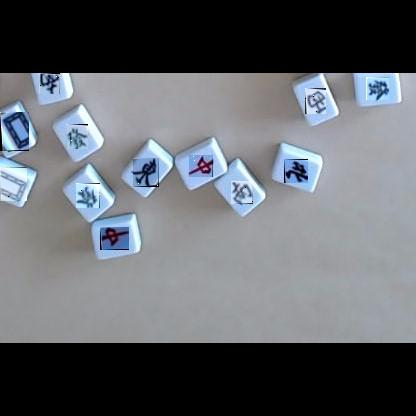1z: (133, 158, 159, 187)
2z: (231, 181, 253, 204), (39, 73, 60, 94)
3z: (305, 88, 326, 114)
4z: (284, 159, 308, 183)
5z: (0, 112, 29, 151), (0, 167, 27, 201)
6z: (76, 183, 100, 208), (66, 124, 88, 149), (366, 77, 389, 100)
7z: (100, 227, 129, 250), (189, 155, 213, 177)
